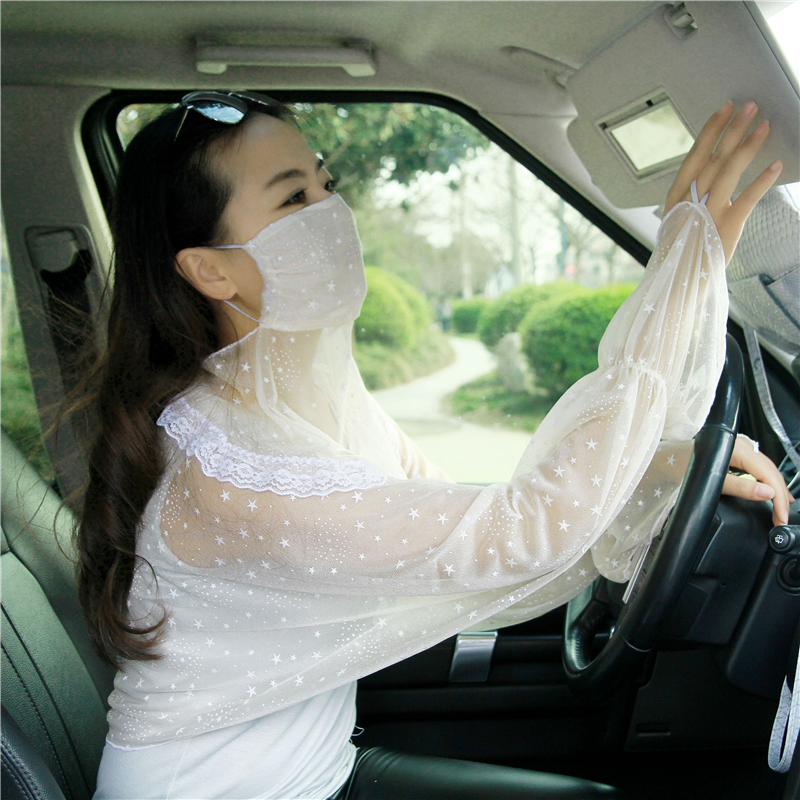face_mask: (216, 117, 368, 326)
